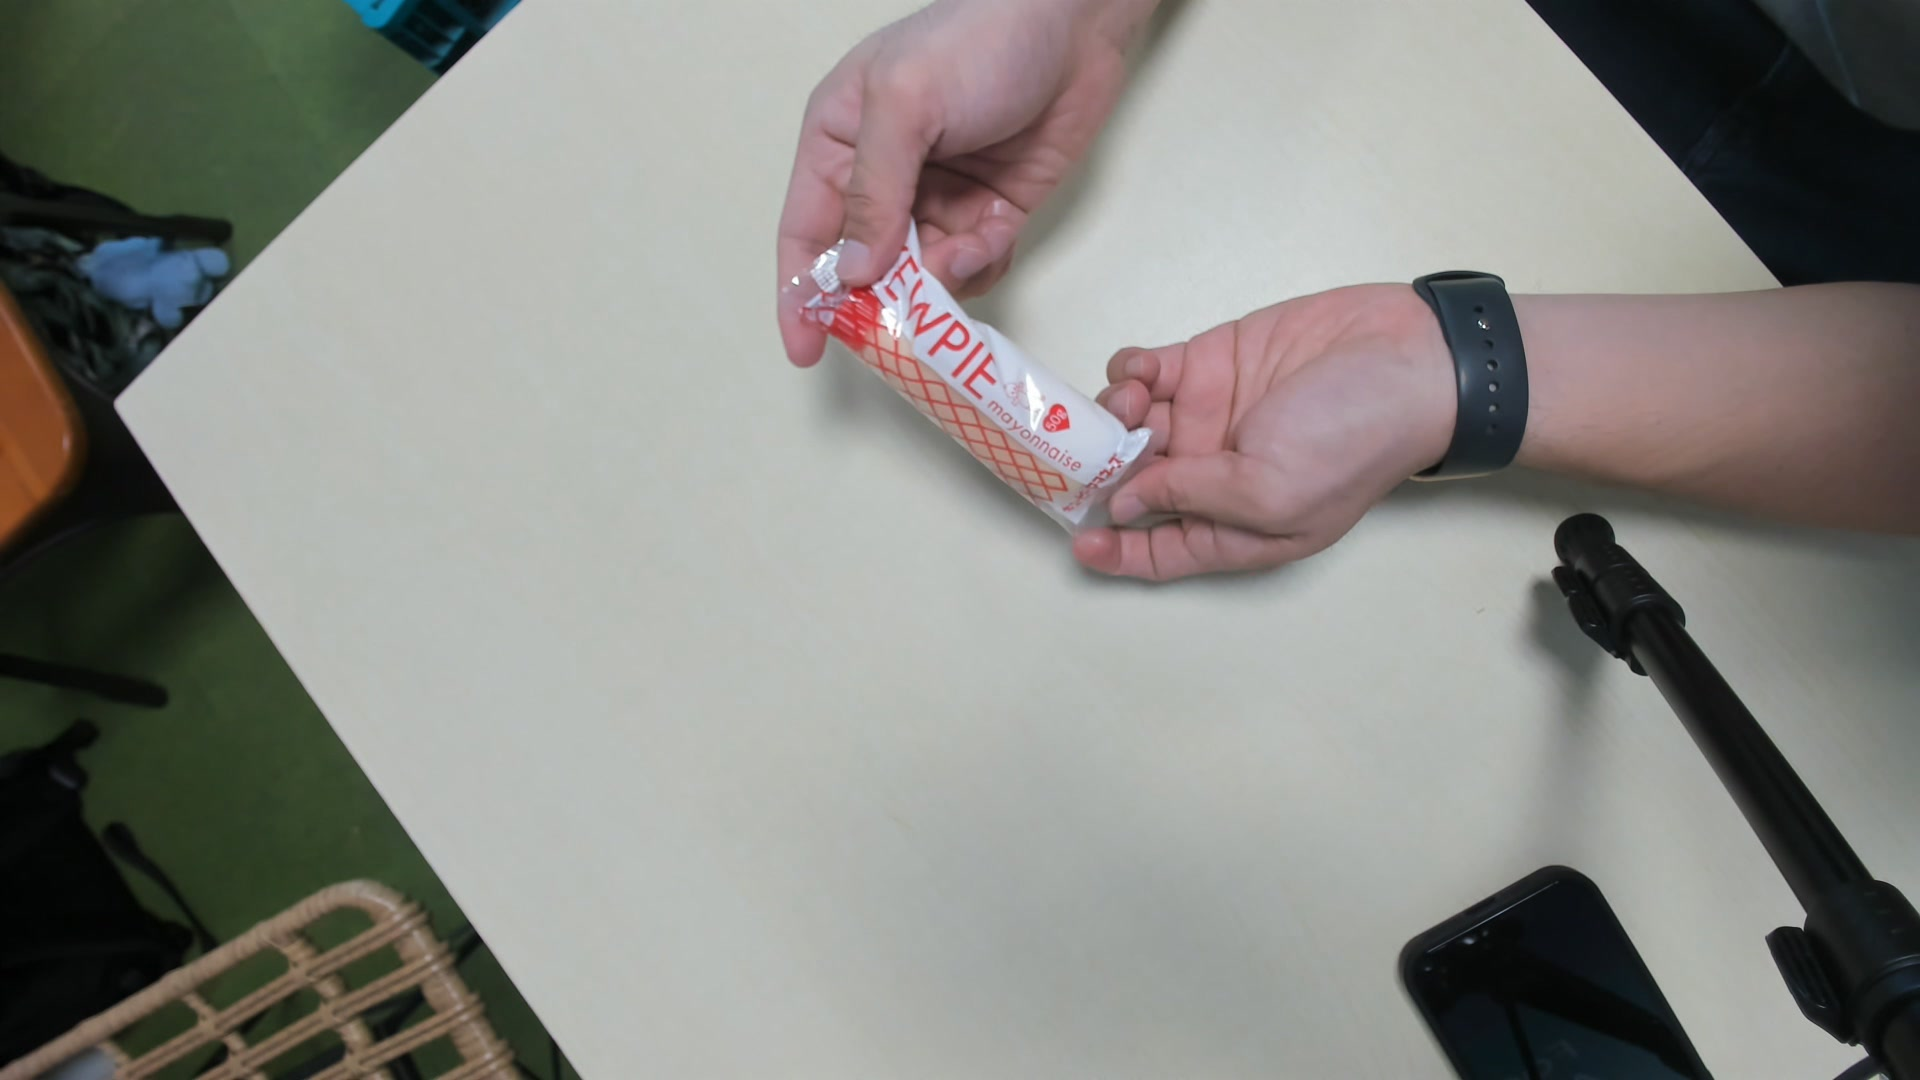OtherSauceDressing_0-99g_NonHalal_NonHealthy: (785, 219, 1153, 547)
